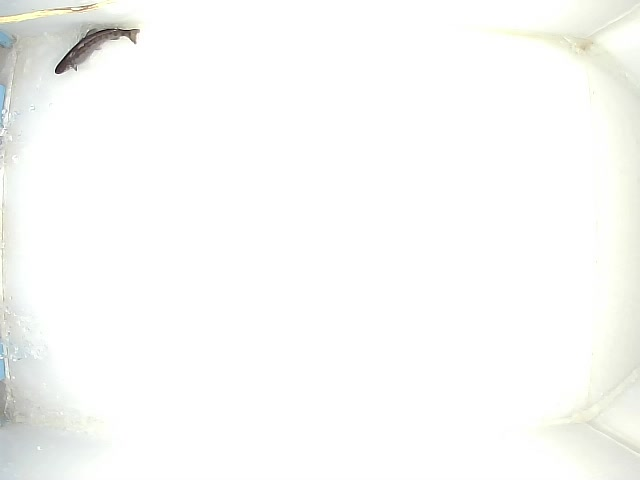fish: (54, 26, 141, 76)
